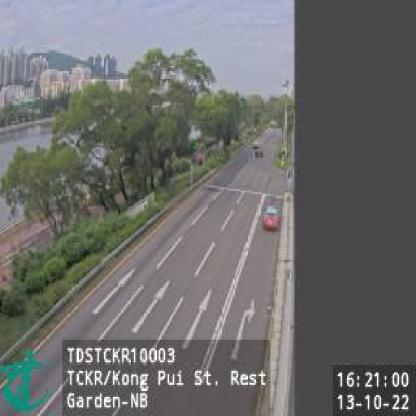Car: (262, 204, 281, 233)
